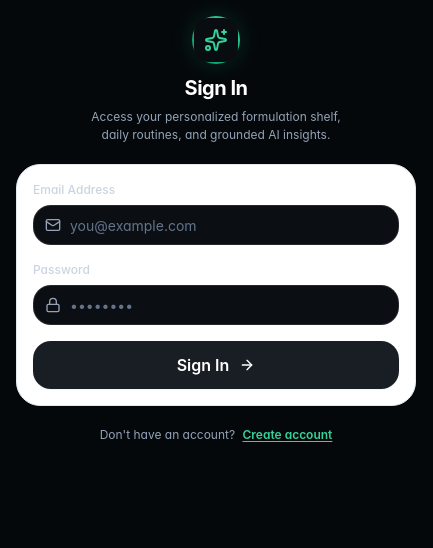
Test case: Auth UI Components & ProtectedRoute Guard › LoginPage › displays generic credential failure copy on 401 response
This screenshot has width=433, height=548.
In the field labelled "Email Address": [216, 225] box [33,205,399,245], type "test@example.com"
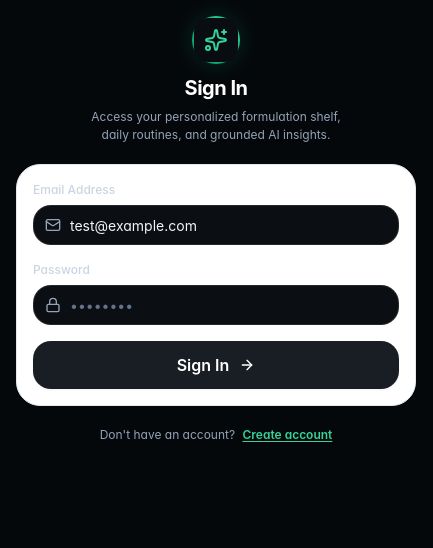
In the password field labelled "Password": [216, 305] box [33,285,399,325], type "WrongPass123!"
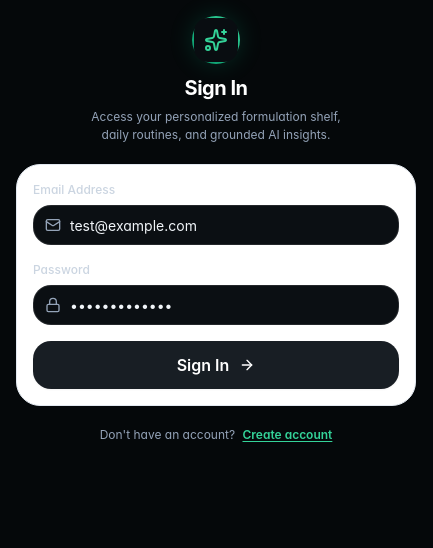
Click the button "Sign In": [216, 365] box [33,341,399,389]
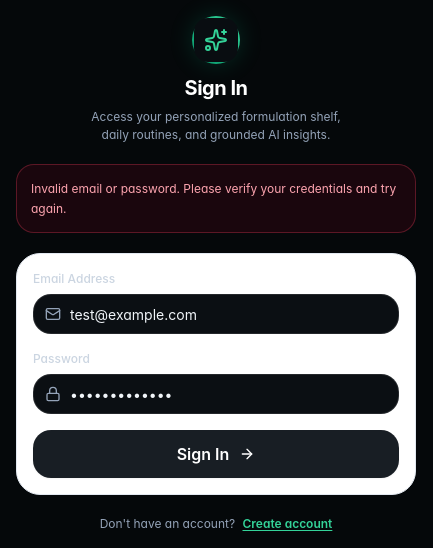
Expected: the text "Invalid email or password. Please verify your credentials and try again." is shown, [16,164,416,233]
